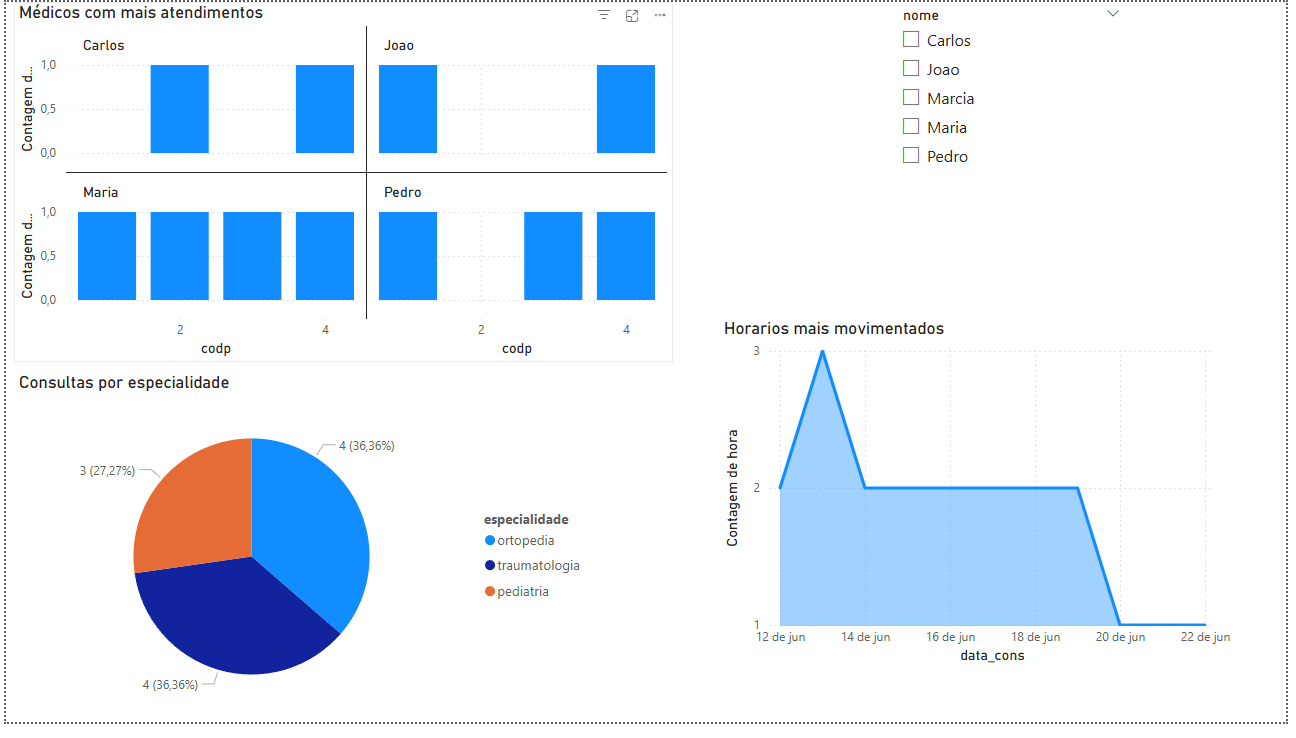

The dashboard page shown, as its layout file describes it:
{"tool":"powerbi","page":{"name":"Medicos-Atendimento","canvas":[1280,720],"ordinal":1},"visuals":[{"type":"columnChart","title":"Médicos com mais atendimentos","fields":{"Rows":["medico.nome"],"Y":["CountNonNull(medico.especialidade)"],"Category":["consulta.codp"]},"box":[7.8,0,659.5,359.9],"z":0},{"type":"pieChart","title":"Consultas por especialidade","fields":{"Category":["medico.especialidade"],"Y":["CountNonNull(consulta.codp)"]},"box":[7.8,369.6,581.6,350.2],"z":1000},{"type":"stackedAreaChart","title":"Horarios mais movimentados","fields":{"Category":["consulta.data_cons"],"Y":["CountNonNull(consulta.hora)"]},"box":[712.9,316.1,516.5,350.2],"z":2000},{"type":"slicer","fields":{"Values":["medico.nome"]},"box":[884.1,0,242.2,232.5],"z":3000}]}

Visuals, with their boxes in screenshot pixels (x1, y1, x2, y2), scaled from the page's 1280x720 canvas onto the 1296x738 screenshot:
"Médicos com mais atendimentos" columnChart: [8,0,676,369]
"Consultas por especialidade" pieChart: [8,379,597,737]
"Horarios mais movimentados" stackedAreaChart: [722,324,1245,683]
slicer - medico.nome: [895,0,1140,238]
